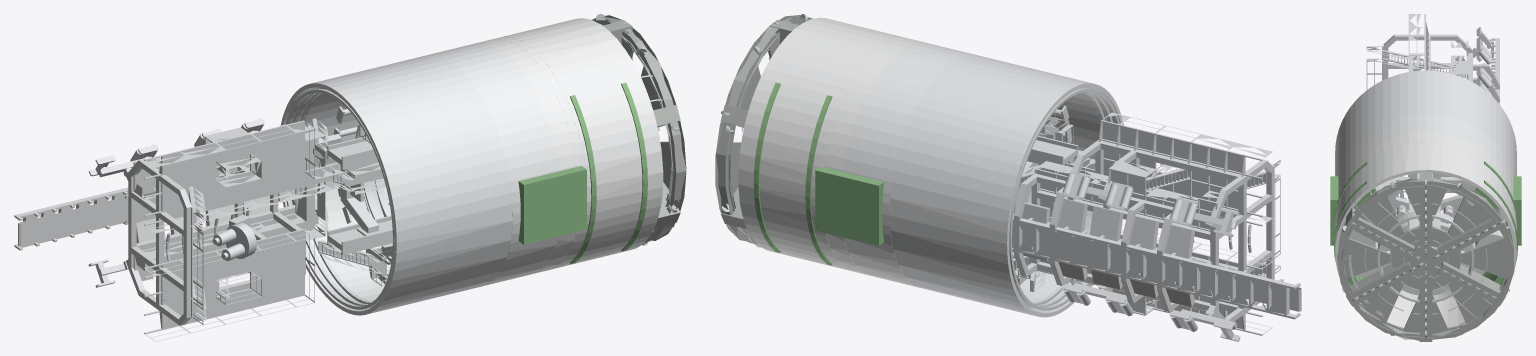
File: double_shield.glb
The picture shows the model from 3 angles, left to right: view 1: azimuth 30°, elevation 25°; view 2: azimuth 150°, elevation 25°; view 3: azimuth 270°, elevation 25°; orthographic projection. The views are drawn at different scales.
Parts seen in each view (by area): view 1: MachineStructure, ShieldTail, ShieldSkin, ShieldMiddle, RockKit/Cutterhead, TypeKit/DoubleShield/GripperShoes, ShieldFrontCollar, TypeKit/DoubleShield/TelescopicJoint, Railings; view 2: MachineStructure, ShieldTail, ShieldSkin, ShieldMiddle, RockKit/Cutterhead, TypeKit/DoubleShield/GripperShoes, ShieldFrontCollar, TypeKit/DoubleShield/TelescopicJoint, Stairs, ServiceTanks; view 3: RockKit/Cutterhead, MachineStructure, ShieldTail, ShieldSkin, ShieldMiddle, TypeKit/DoubleShield/TelescopicJoint, ShieldFrontCollar, RockKit/DiscCutters, TypeKit/DoubleShield/GripperShoes, Stairs.
Boxes of the visible parts, x1,y1,x2,y2 form: MachineStructure: [14, 36, 668, 334]; ShieldTail: [280, 55, 512, 315]; ShieldSkin: [494, 18, 663, 269]; ShieldMiddle: [427, 43, 559, 285]; RockKit/Cutterhead: [591, 15, 686, 243]; TypeKit/DoubleShield/GripperShoes: [518, 166, 586, 244]; ShieldFrontCollar: [476, 38, 577, 273]; TypeKit/DoubleShield/TelescopicJoint: [570, 82, 647, 263]; Railings: [145, 229, 314, 341]; MachineStructure: [739, 36, 1301, 341]; ShieldTail: [890, 54, 1123, 317]; ShieldSkin: [738, 17, 908, 271]; ShieldMiddle: [842, 42, 976, 288]; RockKit/Cutterhead: [715, 15, 812, 244]; TypeKit/DoubleShield/GripperShoes: [815, 166, 884, 245]; ShieldFrontCollar: [824, 38, 926, 275]; TypeKit/DoubleShield/TelescopicJoint: [753, 82, 832, 265]; Stairs: [1146, 168, 1266, 304]; ServiceTanks: [1062, 286, 1197, 331]; RockKit/Cutterhead: [1337, 172, 1513, 341]; MachineStructure: [1344, 14, 1503, 318]; ShieldTail: [1335, 70, 1516, 176]; ShieldSkin: [1335, 139, 1516, 332]; ShieldMiddle: [1338, 114, 1513, 192]; TypeKit/DoubleShield/TelescopicJoint: [1334, 161, 1517, 285]; ShieldFrontCollar: [1338, 132, 1513, 297]; RockKit/DiscCutters: [1342, 179, 1509, 337]; TypeKit/DoubleShield/GripperShoes: [1330, 176, 1521, 245]; Stairs: [1382, 50, 1465, 77].
Size of the model in its own units: 28.88 by 10.45 by 10.99.
